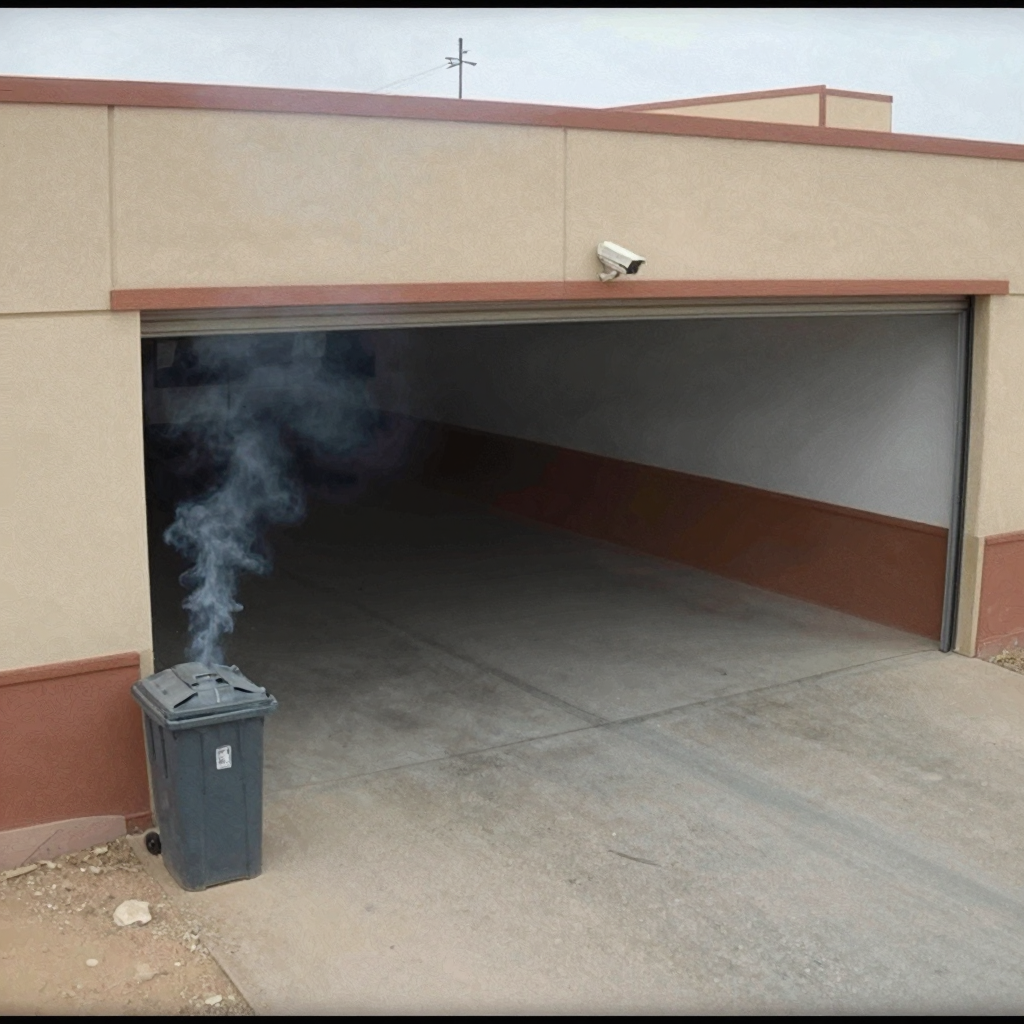Explosion: (105, 286, 413, 675)
